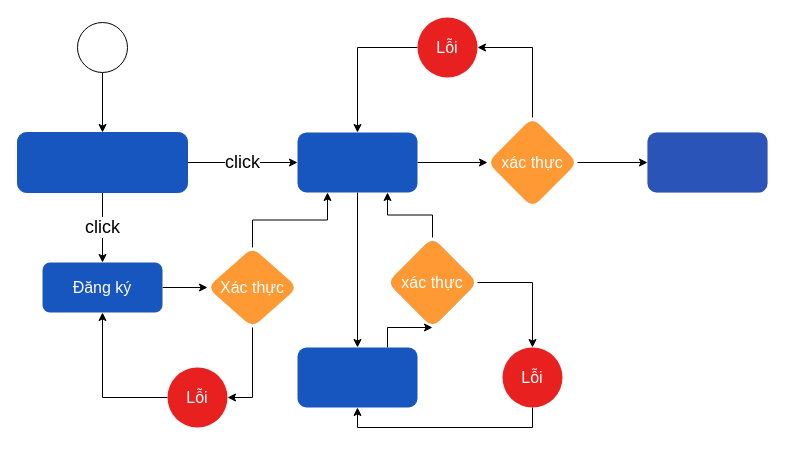
The diagram is 785 pixels wide and 453 high, and some of its shapes have lost their labels. Each missing label, with the box of its shape:
Quên mật khẩu: (297, 347, 417, 407)
Trang chủ: (647, 132, 767, 192)
Đăng nhập: (297, 132, 417, 192)
Đăng nhập / Đăng ký: (16, 132, 188, 192)
